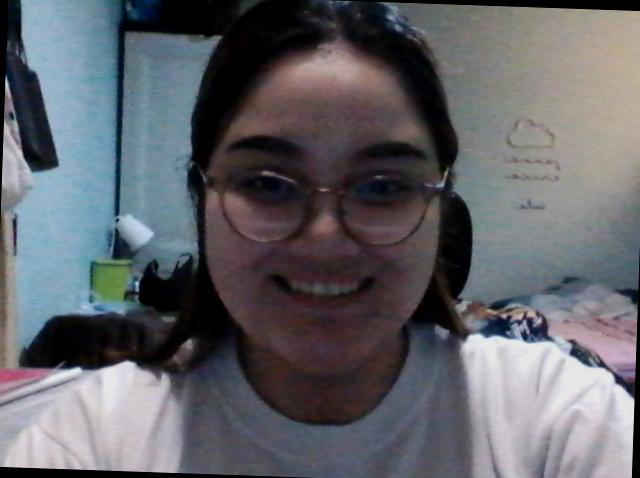senang: (194, 61, 452, 386)
